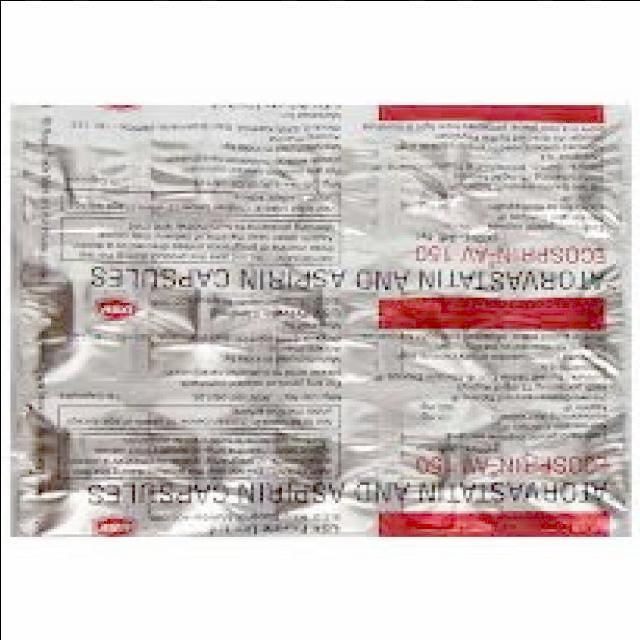authentic: (0, 90, 633, 548)
